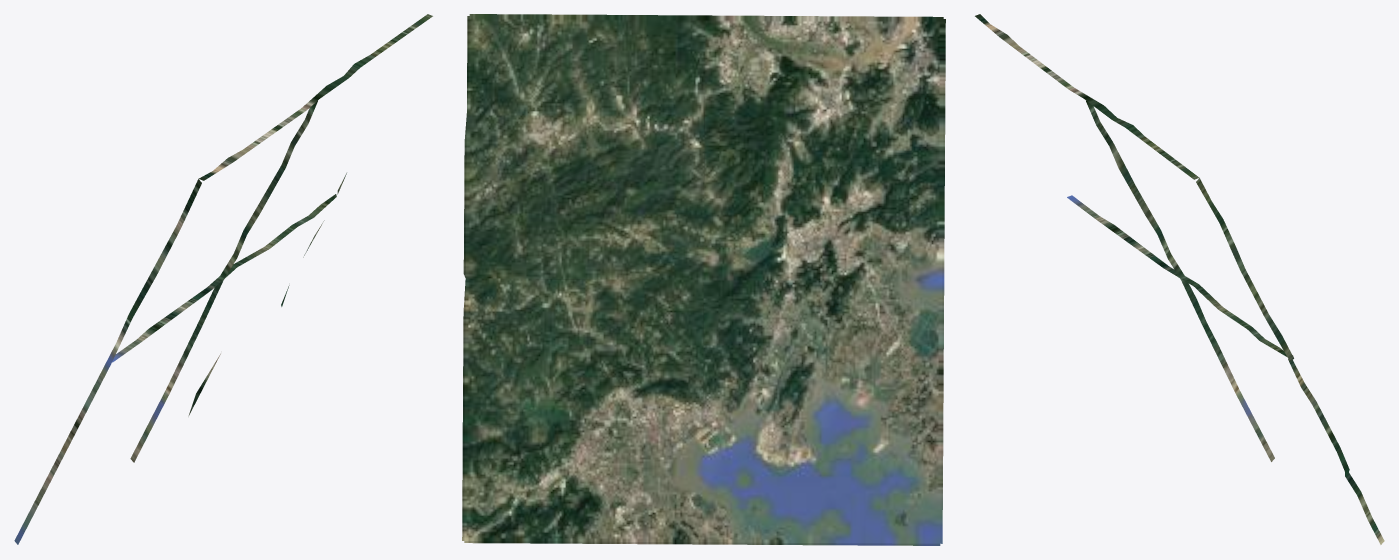
3 views of the same model, side by side, from view 1: azimuth 30°, elevation 25°; view 2: azimuth 150°, elevation 25°; view 3: azimuth 270°, elevation 25° (orthographic). The views are drawn at different scales.
Bounding box in the file's own units: 78636 × 71628 × 64848.
Materials: 1 (1 with a texture image).
